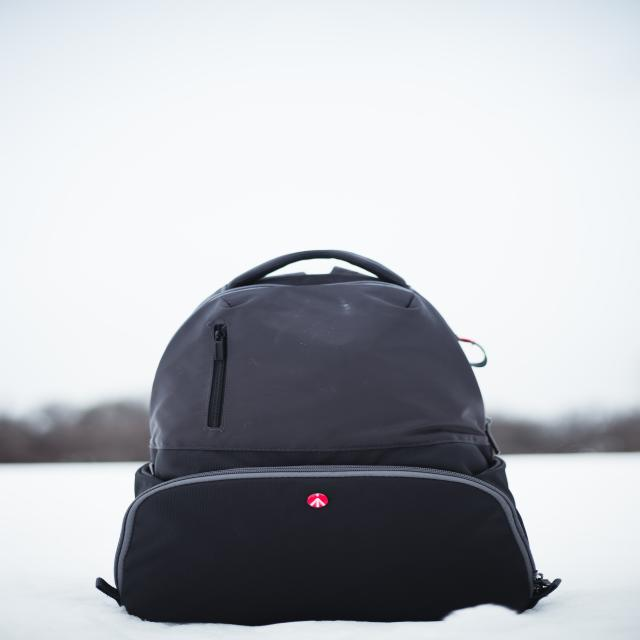backpack: (116, 244, 553, 626)
